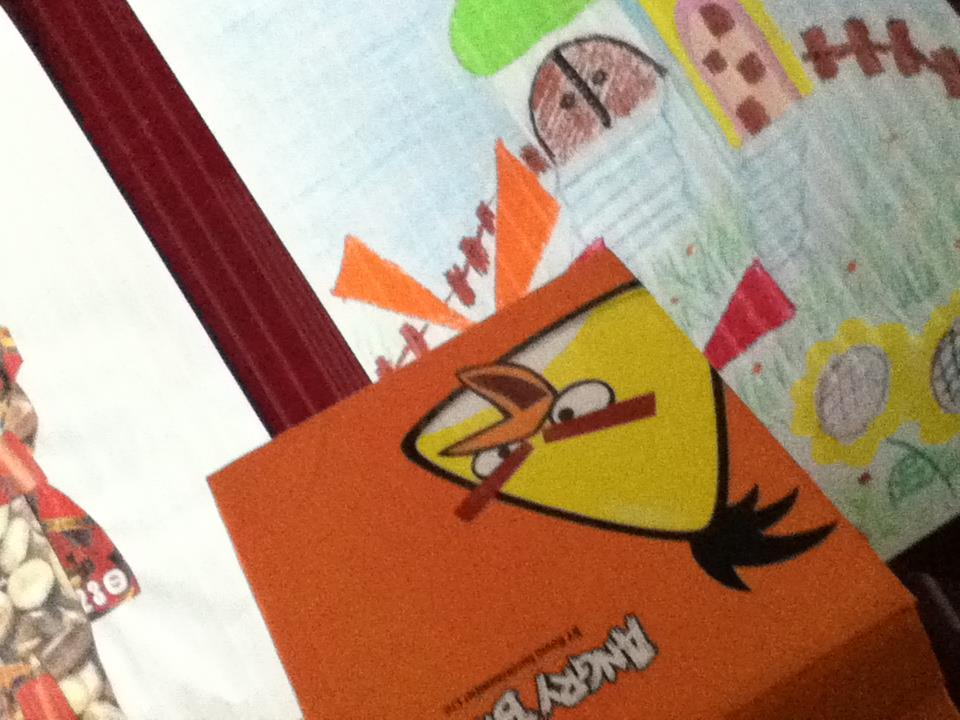crazybird_notes: (192, 233, 940, 706)
